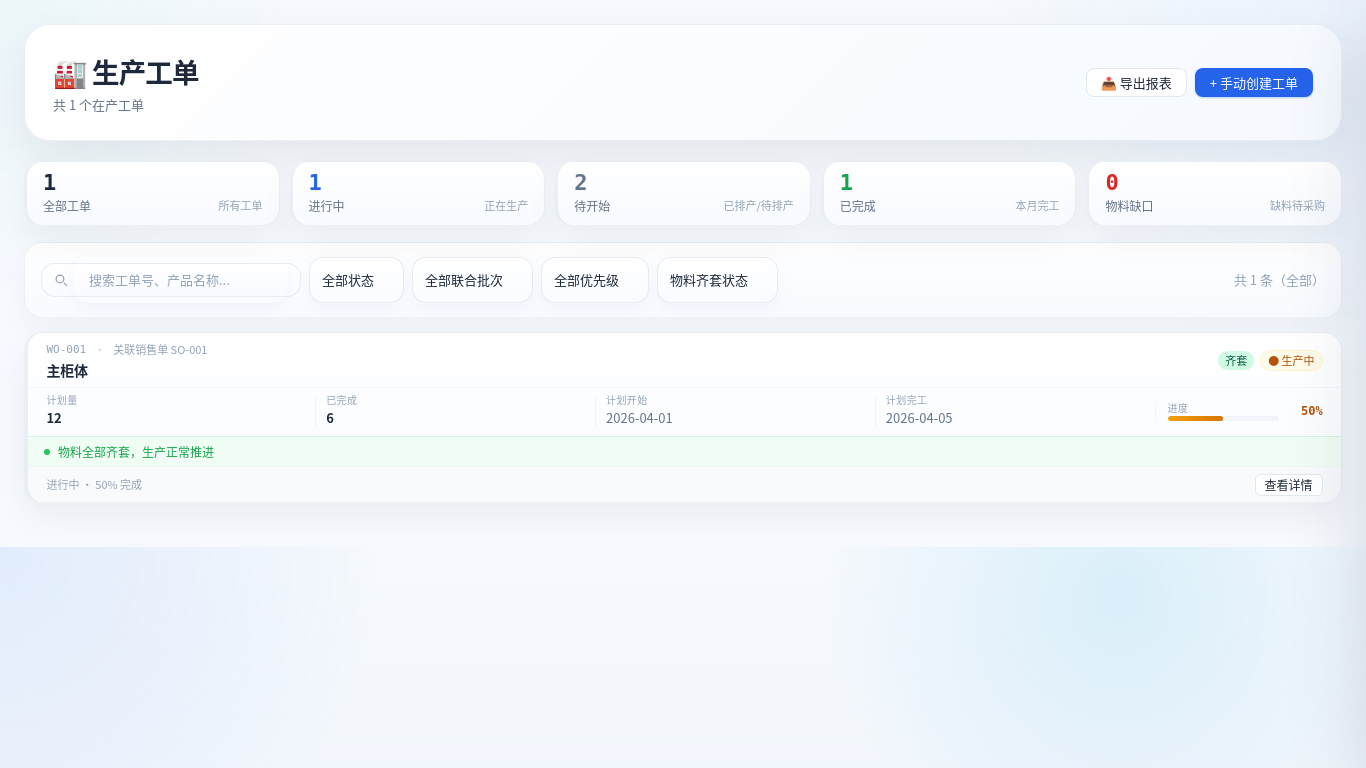
ProductionOrderPage › opens drawer and renders structure snapshot and operation lane tabs
The width and height of the screenshot is (1366, 768).
Click the button "查看详情": x=1289, y=485 [1255,474,1323,496]
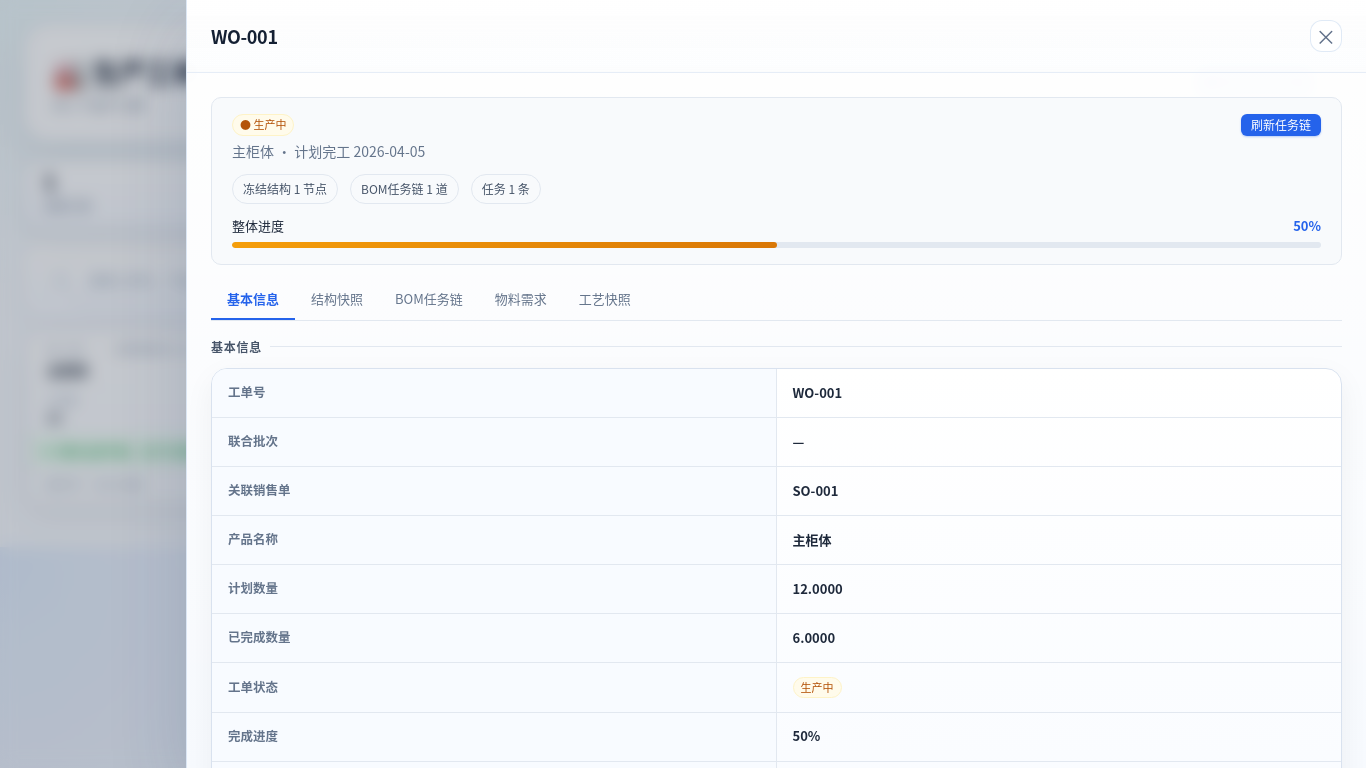
Expected: the dialog "WO-001" is shown
Expected: the text "冻结结构 1 节点" is shown, [232,174,338,204]
Expected: the text "BOM任务链 1 道" is shown, [350,174,459,204]
Click the text "结构快照": x=337, y=299 [311,289,363,308]
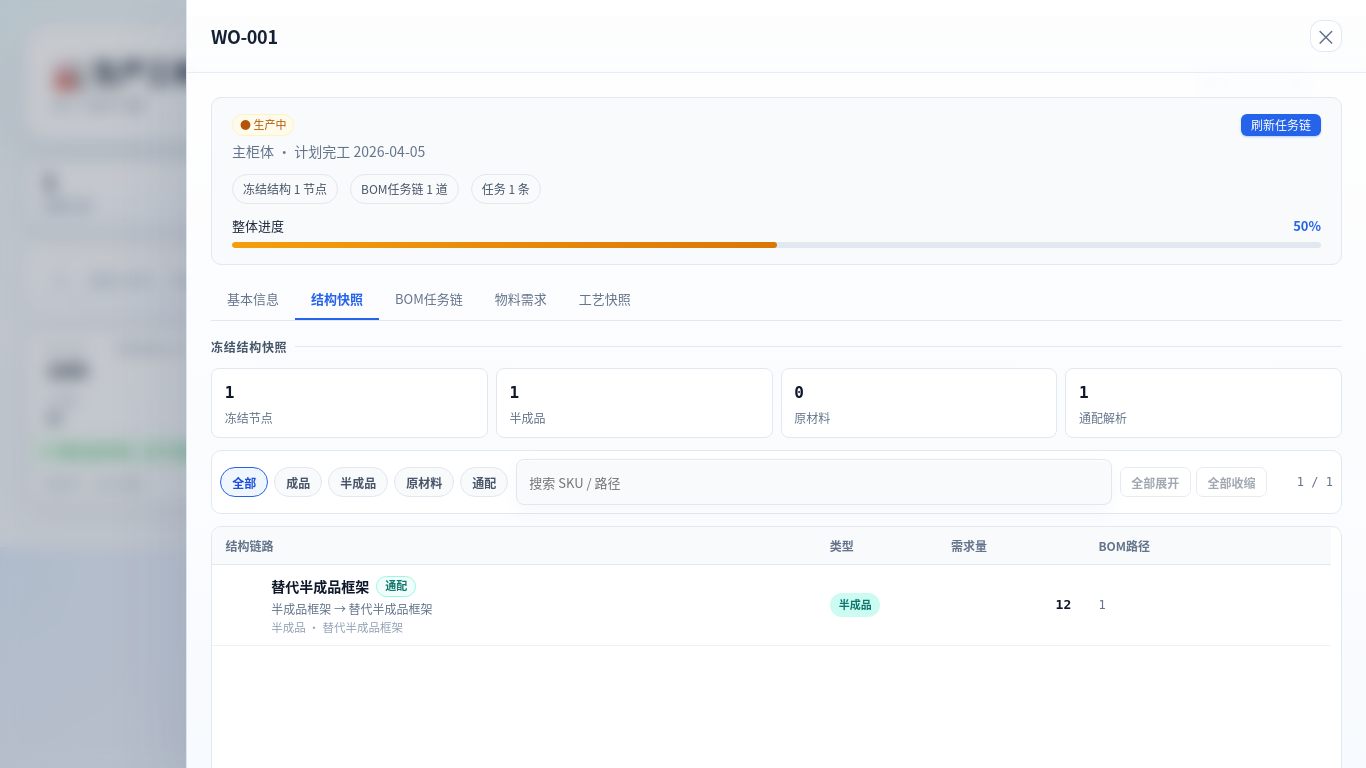
Expected: the text "冻结结构快照" is shown, [211,338,287,355]
Expected: the text "半成品框架 → 替代半成品框架" is shown, [271,601,433,617]
Click the text "BOM任务链": x=429, y=299 [395,289,463,308]
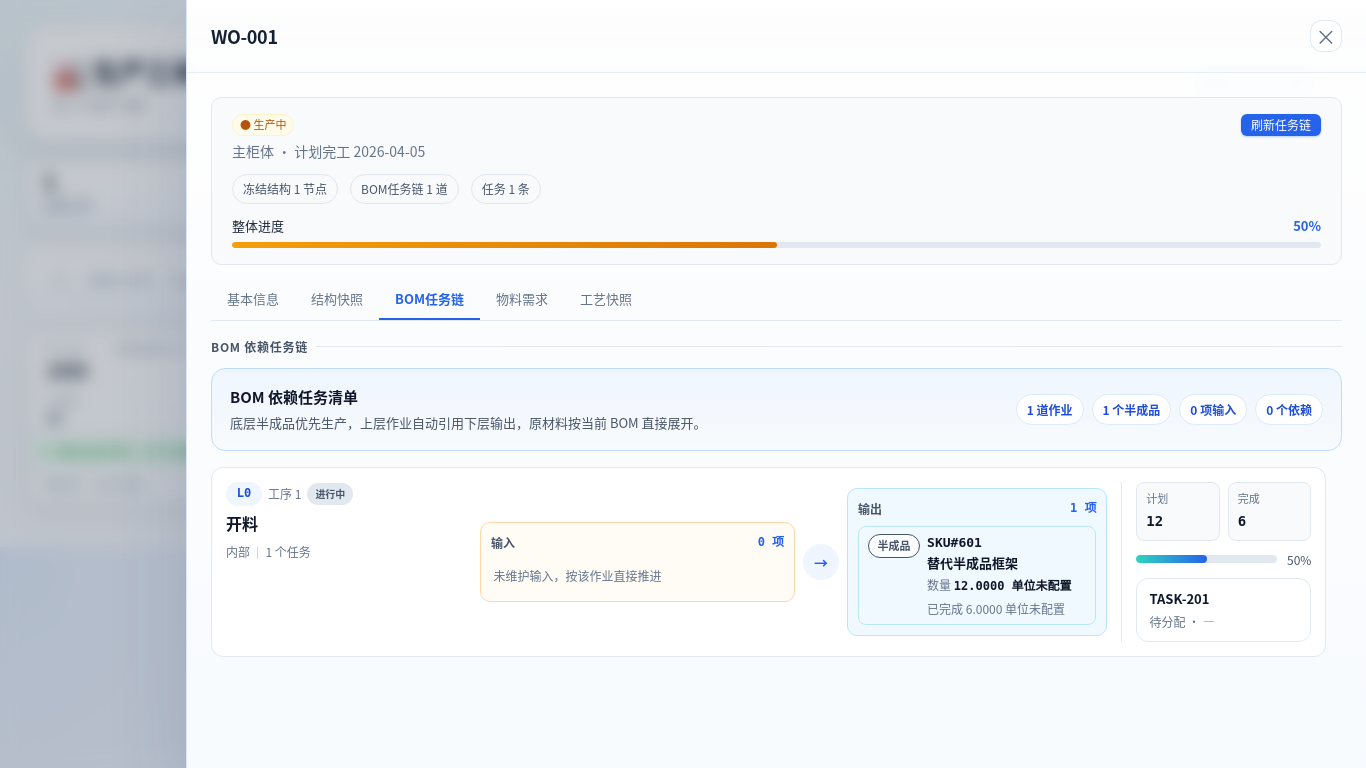
Expected: the text "替代半成品框架" is shown, [927,552,1018,571]
Expected: the text "BOM 依赖任务链" is shown, [211,338,308,355]
Expected: the text "BOM 依赖任务清单" is shown, [230,386,358,407]
